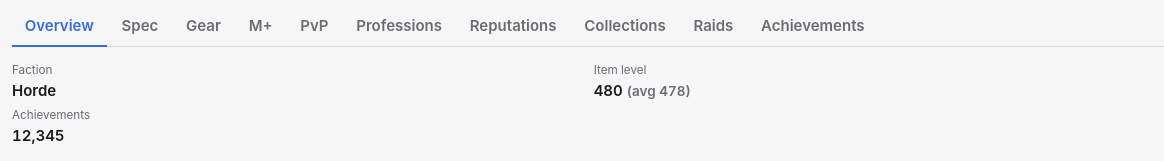
Test: CharacterDetail › shows an error when gear fails to load
This screenshot has width=1164, height=161.
Click the tab "Gear".
click(203, 27)  # box [173,8,234,47]
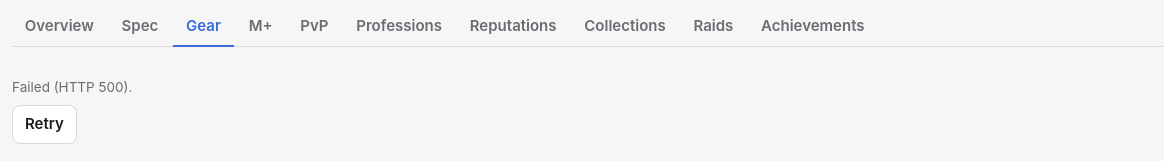
Check: the text "Failed (HTTP 500)." is shown, box [12,77,132,97]
